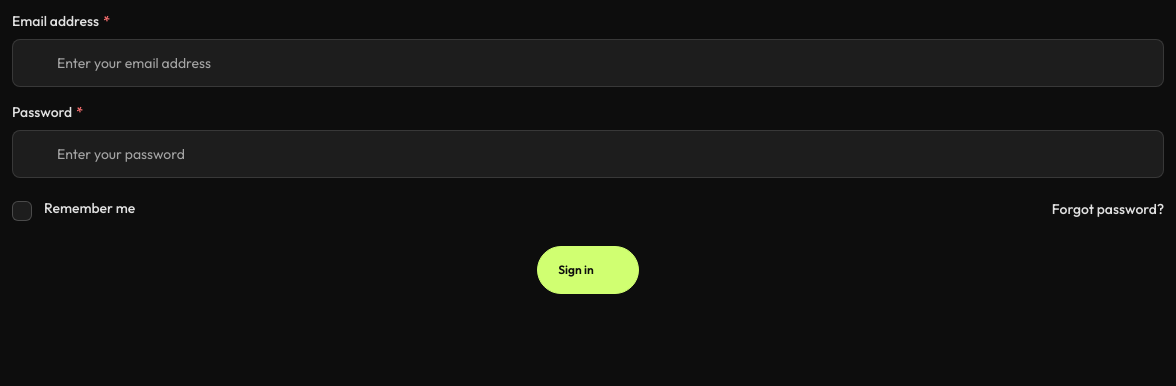
Test: LoginForm › shows a safe error when credentials are rejected
Type "admin@nexcode.africa" into the field labelled "Email address *".
click(588, 63); type("admin@nexcode.africa")  # box [13,40,1163,86]
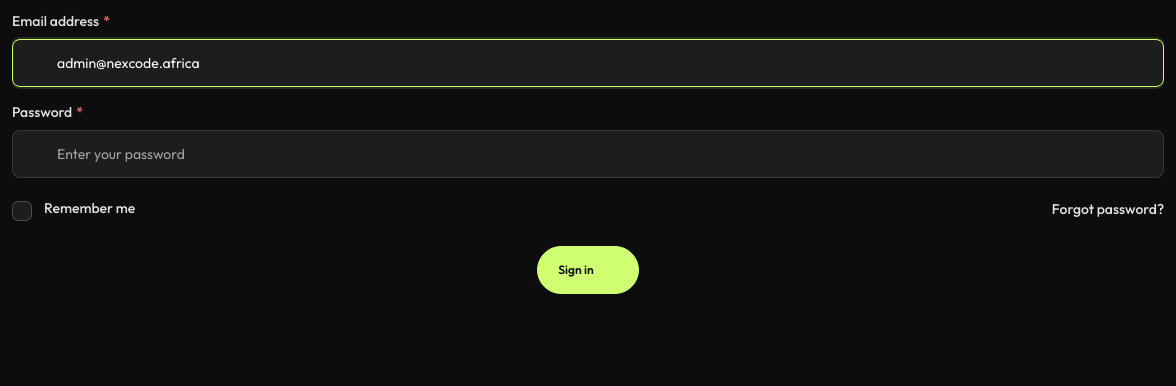
Type "WrongPassword123!" into the password field labelled "Password *".
click(588, 154); type("WrongPassword123!")  # box [13,131,1163,177]
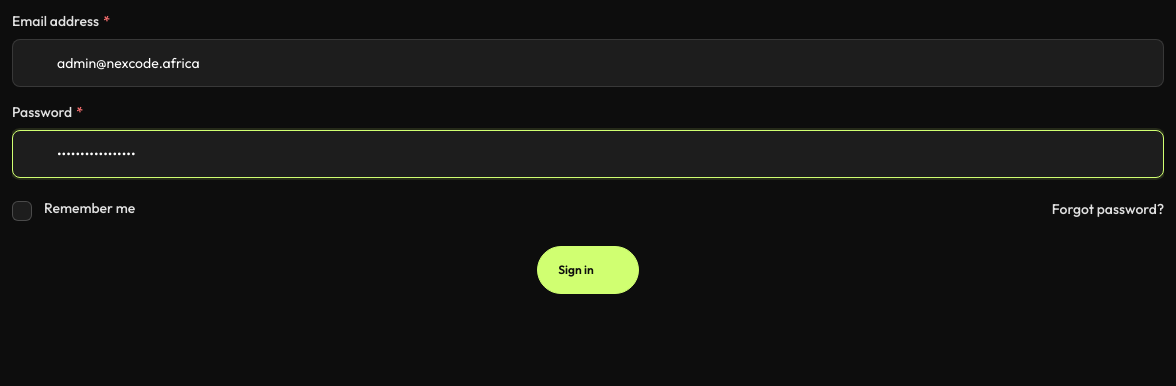
Click the button "Sign in".
click(588, 270)  # box [537,246,639,294]
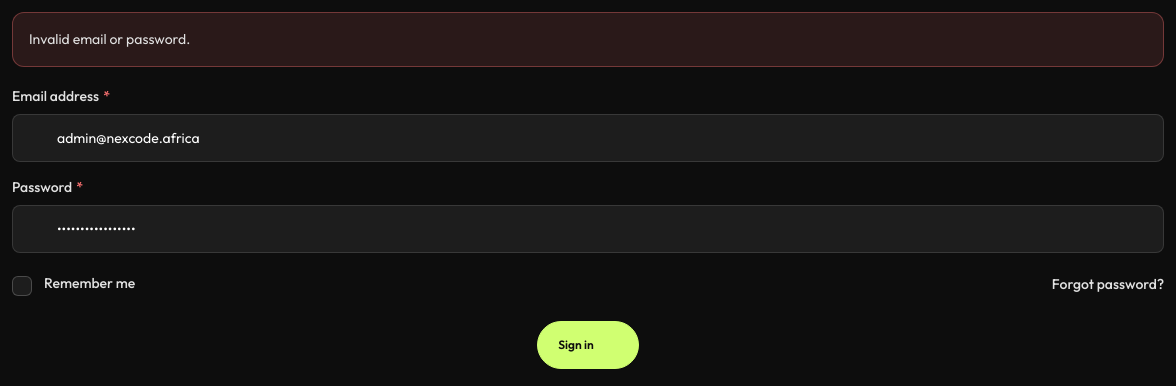
Expected: the message reads "Invalid email or password.", [29,30,190,48]
